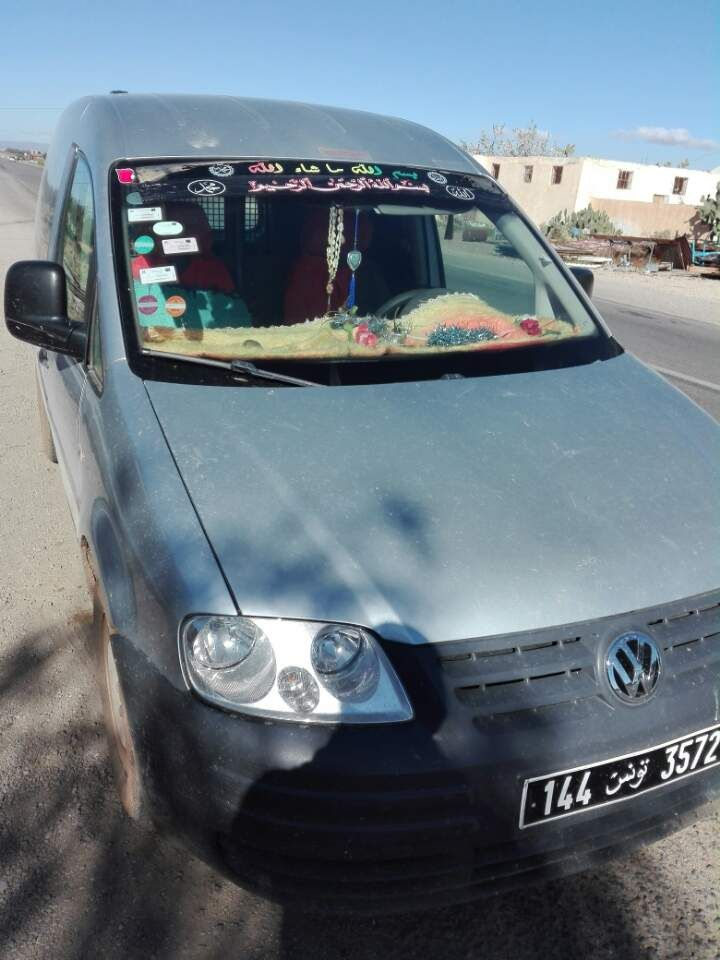LP: (516, 719, 720, 837)
